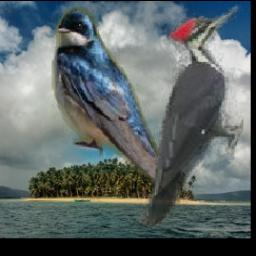Swallow: (52, 4, 180, 205)
Woodpecker: (138, 5, 244, 225)
